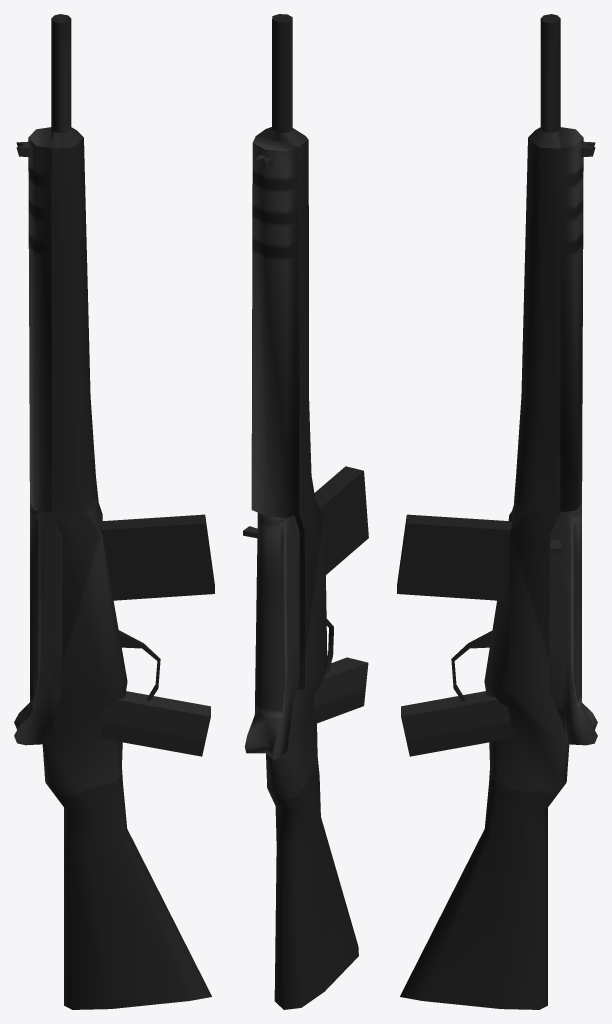
The picture shows the model from 3 angles, left to right: view 1: azimuth 90°, elevation 25°; view 2: azimuth 150°, elevation 25°; view 3: azimuth 270°, elevation 25°; orthographic projection.
Parts seen in each view (by area): view 1: node_01ad04d0_9ae3_4723_a41a_f70a8fdbbab7_mesh0; view 2: node_01ad04d0_9ae3_4723_a41a_f70a8fdbbab7_mesh0; view 3: node_01ad04d0_9ae3_4723_a41a_f70a8fdbbab7_mesh0.
Boxes of the visible parts, x1,y1,x2,y2 form: node_01ad04d0_9ae3_4723_a41a_f70a8fdbbab7_mesh0: (14,14,214,1009); node_01ad04d0_9ae3_4723_a41a_f70a8fdbbab7_mesh0: (243,14,368,1009); node_01ad04d0_9ae3_4723_a41a_f70a8fdbbab7_mesh0: (397,14,597,1009).
Size of the model in its own units: 0.0312 by 0.5347 by 0.0986.
